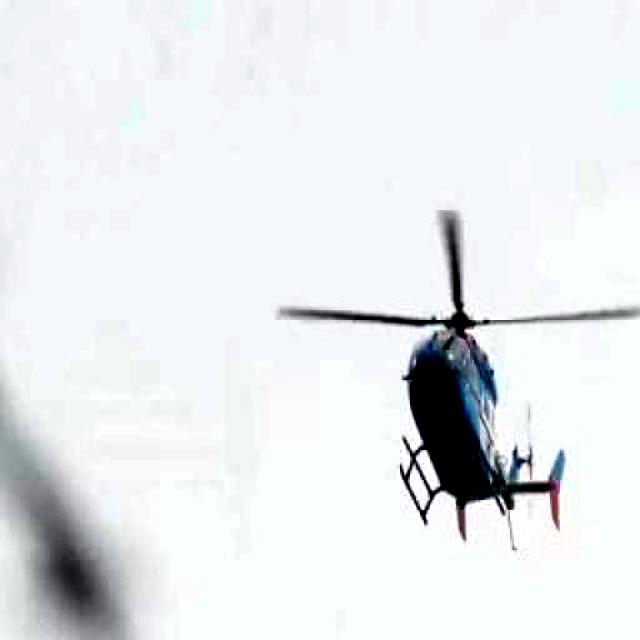drone: (282, 194, 640, 576)
